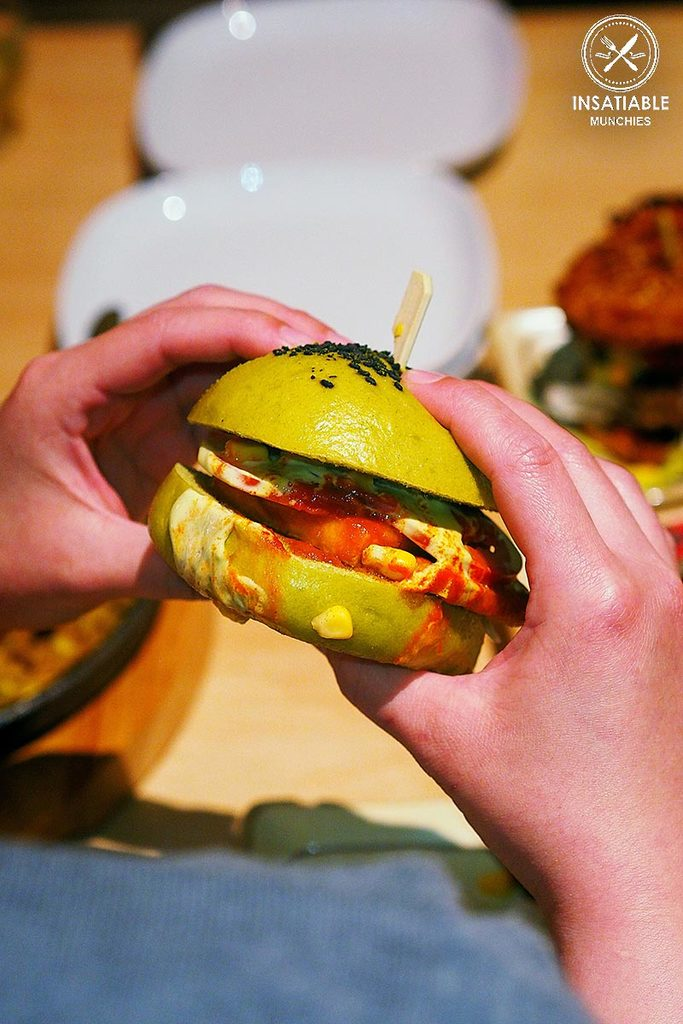Hamburger: (146, 342, 529, 679)
